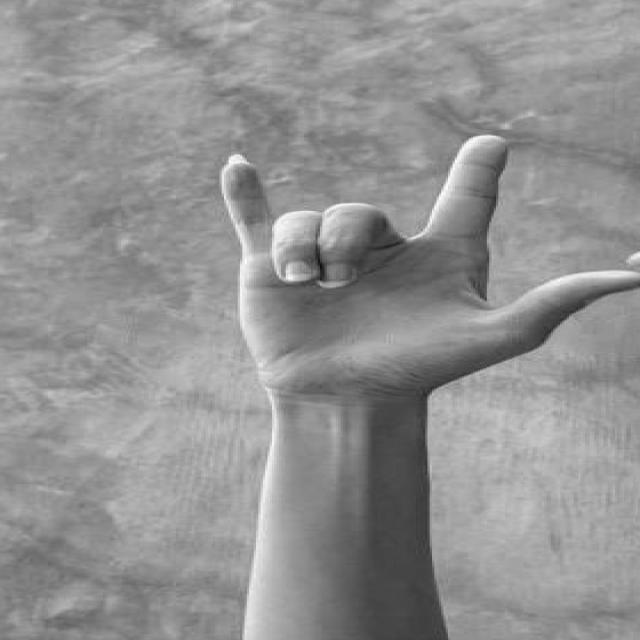i love you: (210, 128, 640, 435)
